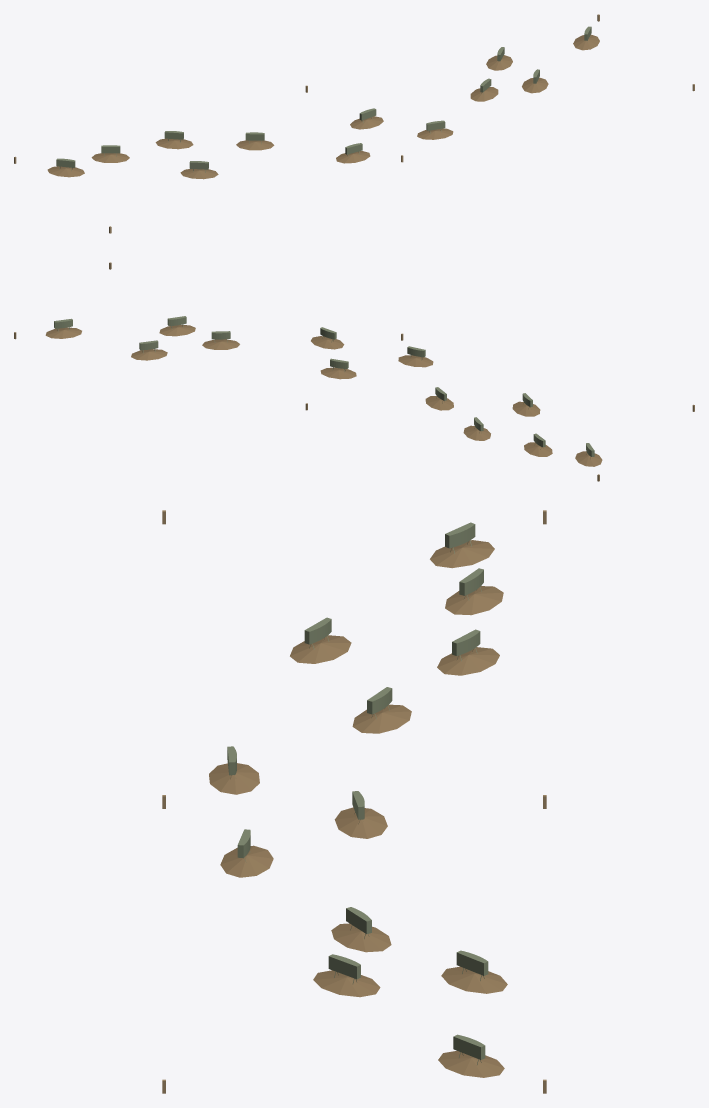
Rendered from claymore_line.glb.
3 renders of one model, top to bottom at view 1: azimuth 30°, elevation 25°; view 2: azimuth 150°, elevation 25°; view 3: azimuth 270°, elevation 25°, orthographic. The views are drawn at different scales.
Parts seen in each view (by area): view 1: claymore_line-col; view 2: claymore_line-col; view 3: claymore_line-col.
Boxes of the visible parts, bbox=[...] form: claymore_line-col: bbox=[14, 14, 694, 233]; claymore_line-col: bbox=[14, 262, 694, 481]; claymore_line-col: bbox=[162, 510, 546, 1093].
Bounding box in the file's own units: 7.69 × 0.1517 × 2.19.
